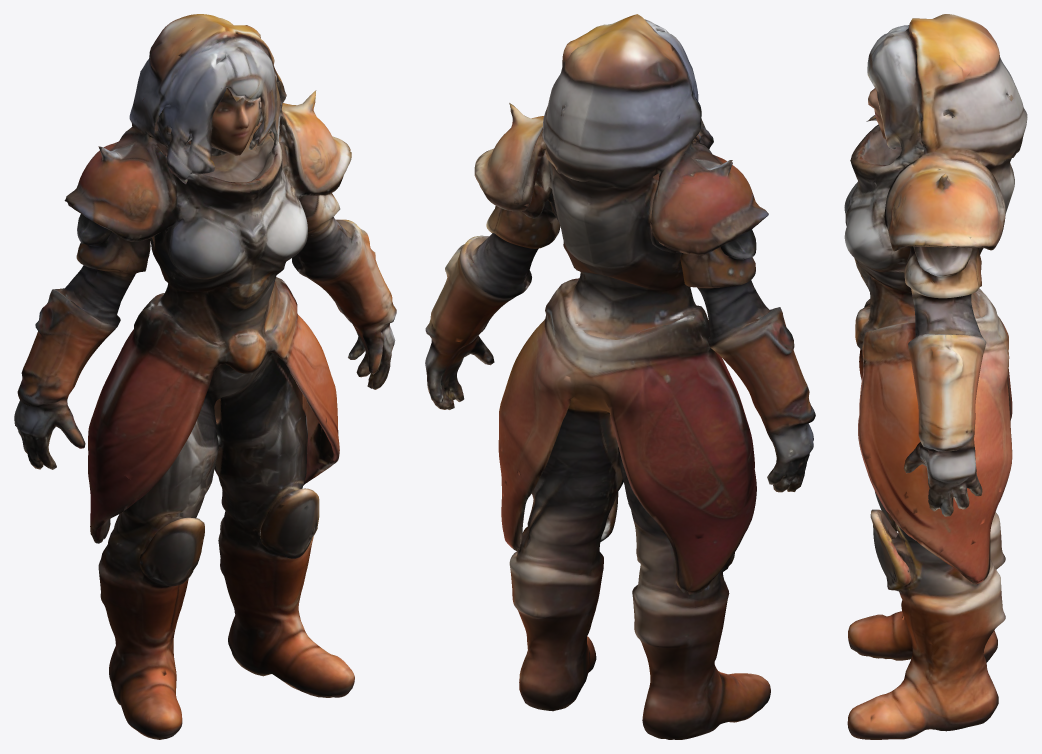
Rendered from dwarf_woman.glb.
3 renders of one model, left to right at view 1: azimuth 30°, elevation 25°; view 2: azimuth 150°, elevation 25°; view 3: azimuth 270°, elevation 25°, orthographic. The views are drawn at different scales.
Size of the model in its own units: 1.16 by 2 by 0.492.
1 material, 1 textured.
